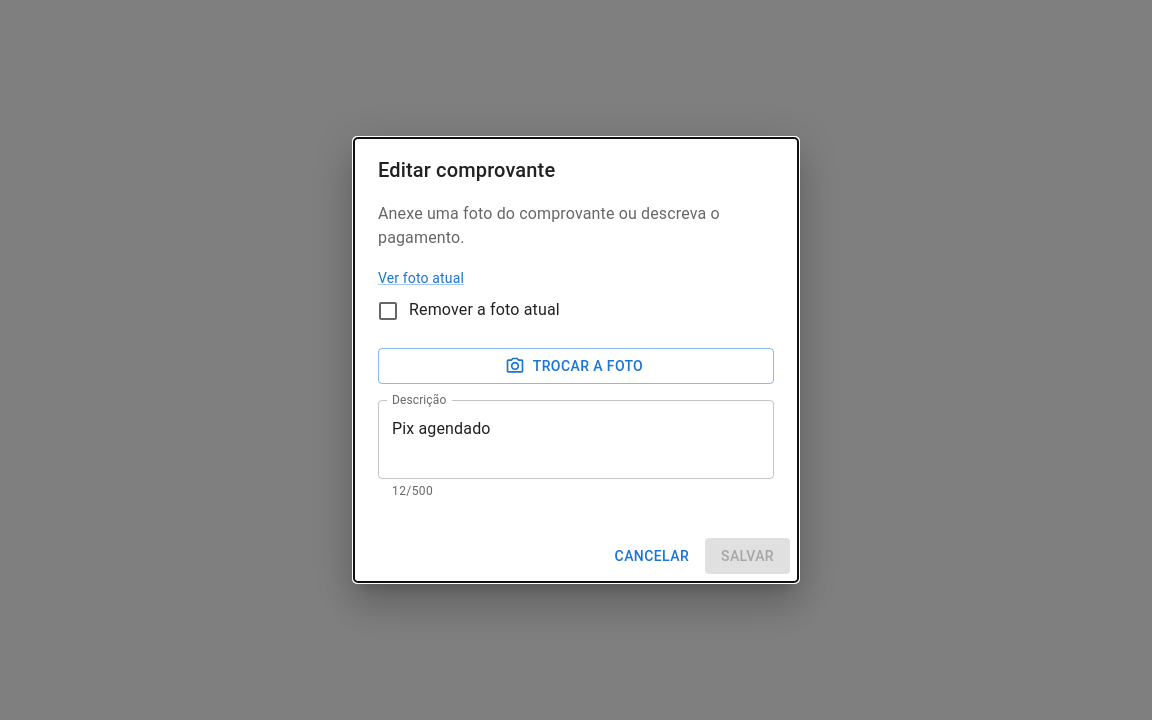
Test: PaymentProofDialog in edit mode › enables Salvar when only the description changes
The image size is (1152, 720).
In the text box labelled "Descrição": (576, 440) [392,416,760,462], type " ajustado"
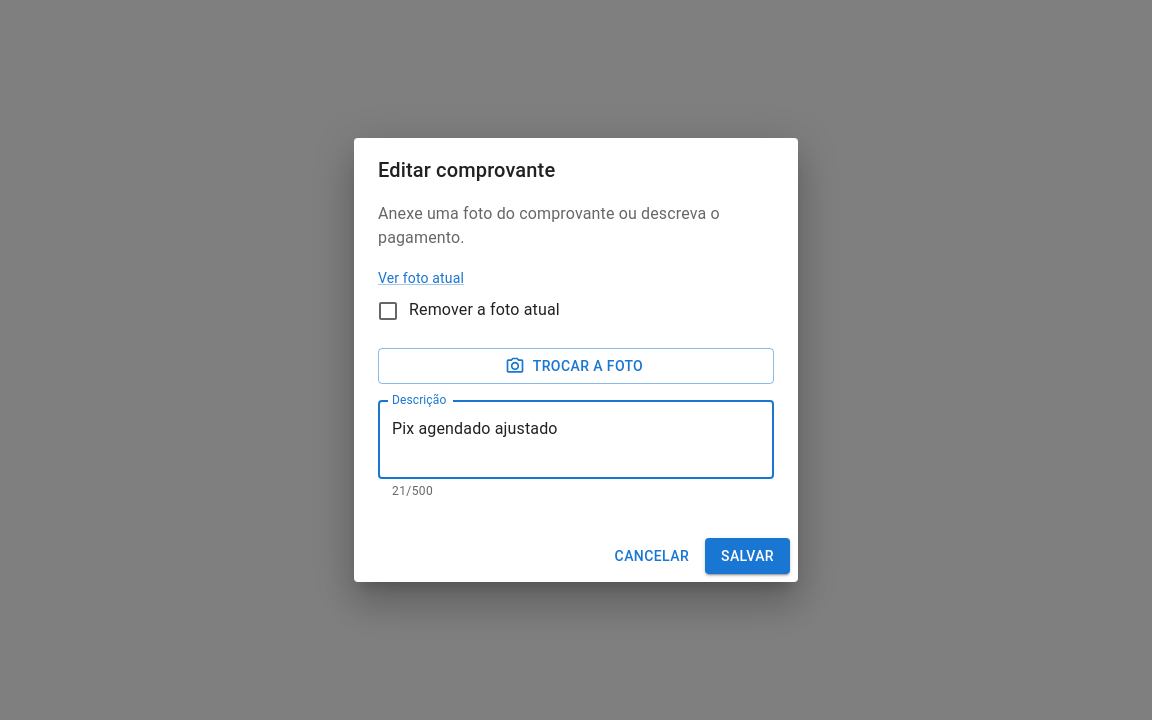
Expected: the button "Salvar" is enabled, [705,538,790,574]
